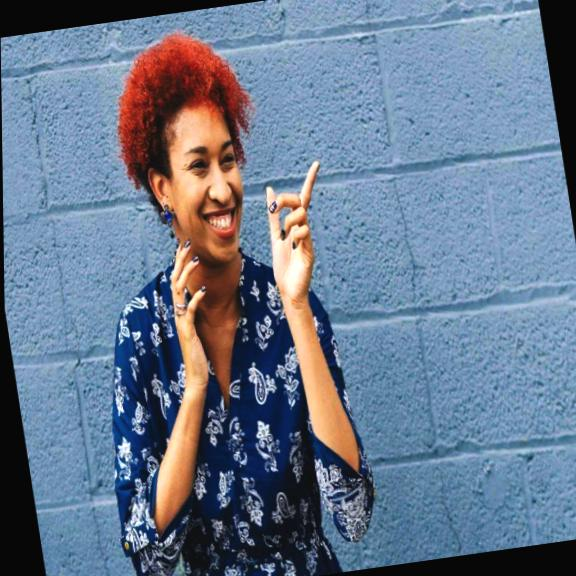no_safety_vest: (73, 241, 390, 576)
